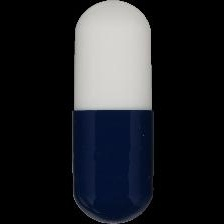68012-104: (0, 0, 224, 224)
